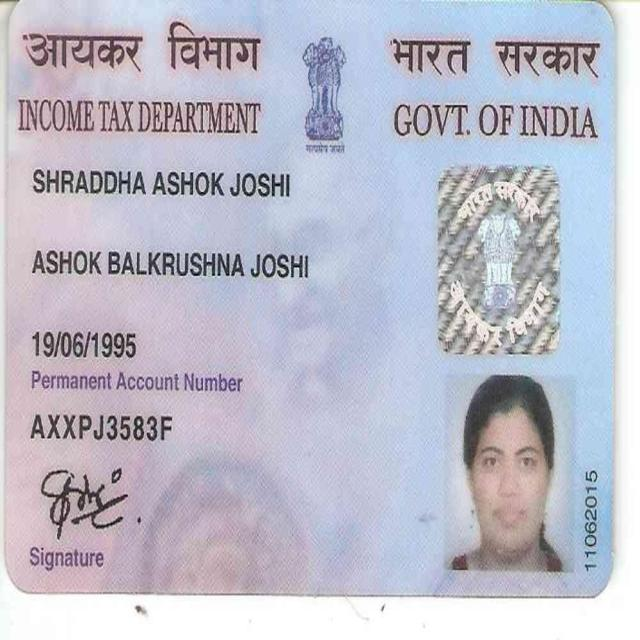pan_card: (12, 9, 605, 589)
